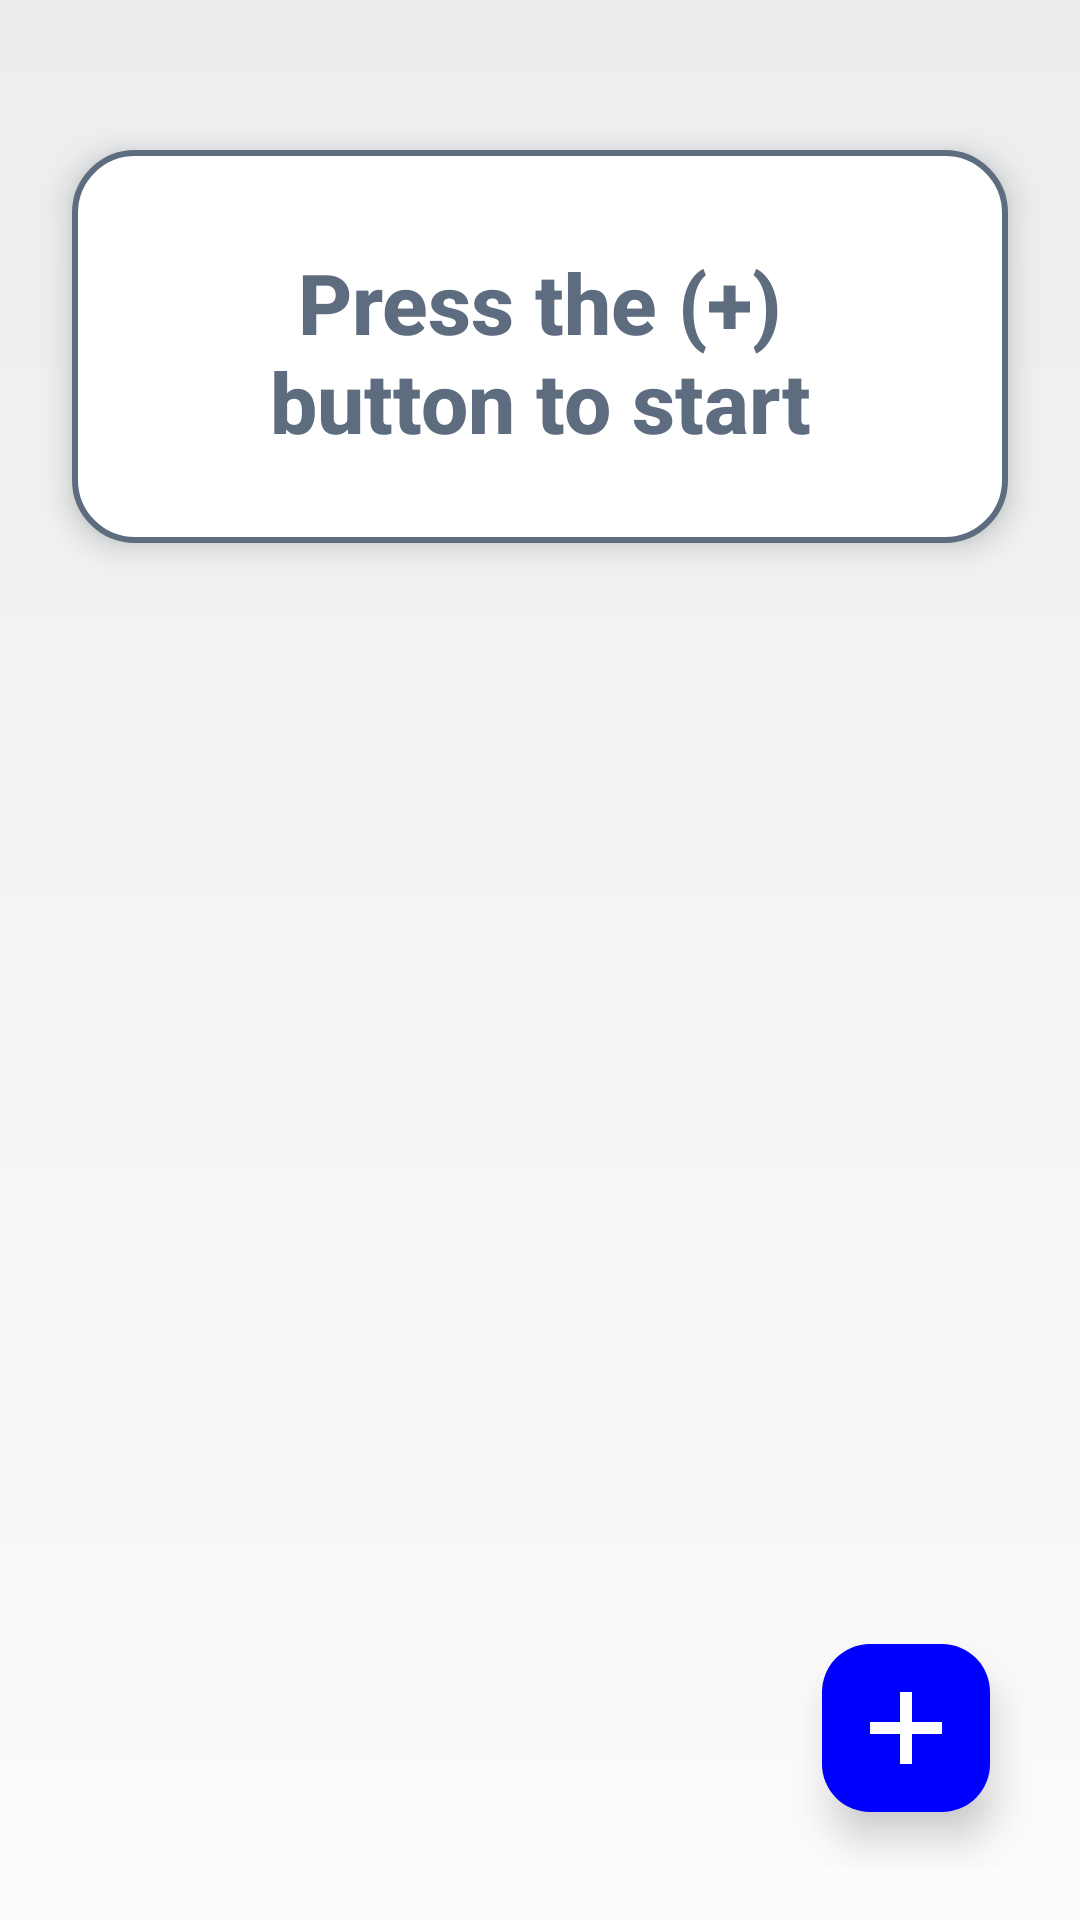

Point at icon controls on the screen. Image size 1080px×1920px, points as [x,y].
add: [906,1728]
